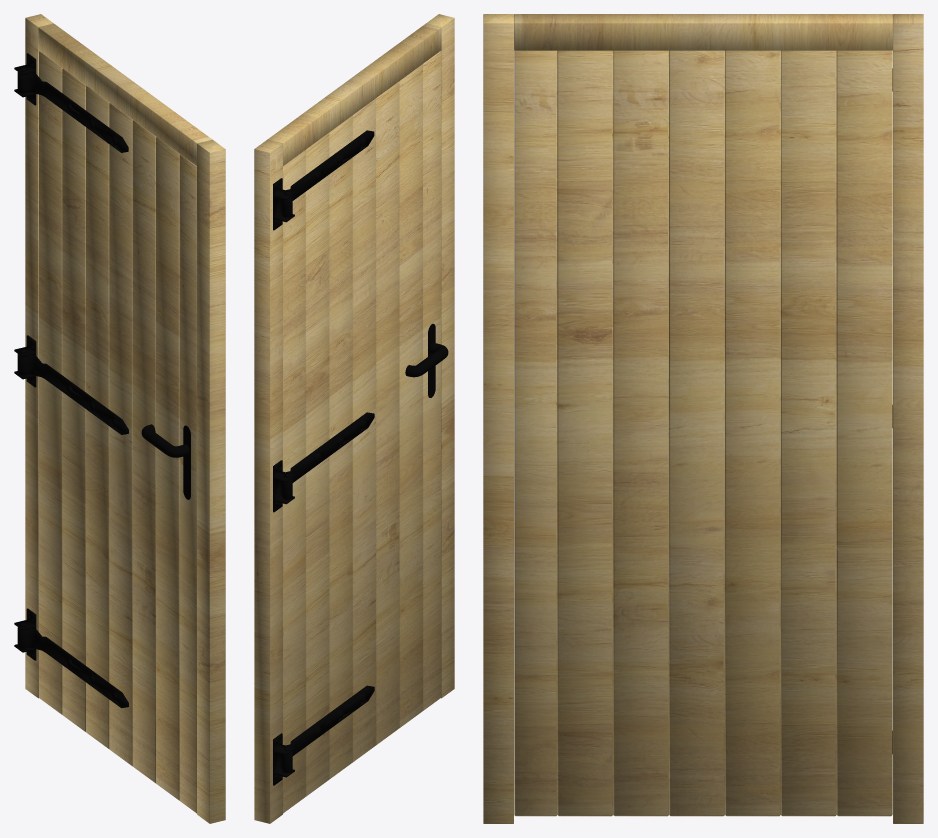
The model's file is door_single.glb.
3 renders of one model, left to right at view 1: azimuth 30°, elevation 25°; view 2: azimuth 150°, elevation 25°; view 3: azimuth 270°, elevation 25°, orthographic. The views are drawn at different scales.
Visible parts, largest first — view 1: door_wood, door_hingles; view 2: door_wood, door_hingles; view 3: door_wood.
Boxes of the visible parts, bbox=[...] form: door_wood: bbox=[25, 14, 225, 823]; door_hingles: bbox=[14, 53, 190, 708]; door_wood: bbox=[254, 14, 454, 823]; door_hingles: bbox=[273, 130, 448, 785]; door_wood: bbox=[483, 14, 923, 823].
Size of the model in its own units: 0.0107 by 0.2012 by 0.1002.
Materials: 2 (1 with a texture image).
